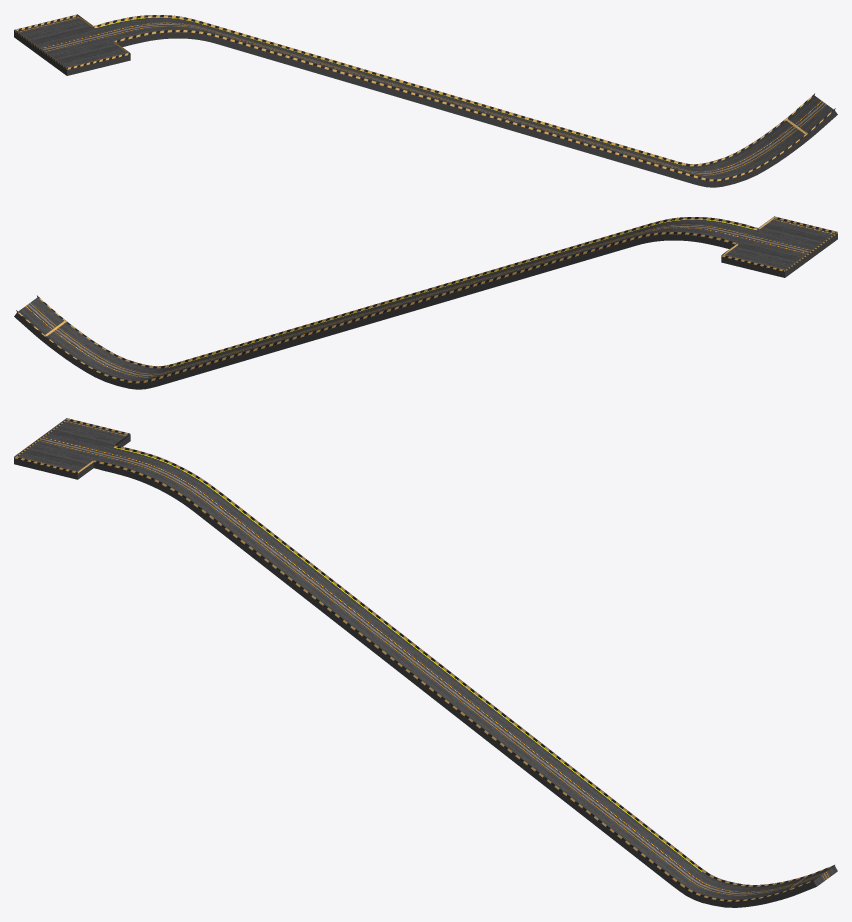
File: Platform.FBX
3 views of the same model, one above another, from view 1: azimuth 30°, elevation 25°; view 2: azimuth 150°, elevation 25°; view 3: azimuth 330°, elevation 25° (orthographic).
Visible parts, largest first — view 1: Platform; view 2: Platform; view 3: Platform.
Boxes of the visible parts, x1,y1,x2,y2 form: Platform: [14, 14, 837, 187]; Platform: [14, 216, 837, 389]; Platform: [14, 418, 837, 907].
Size of the model in its own units: 1389 by 497 by 162.
Materials: 4 (2 with a texture image).
